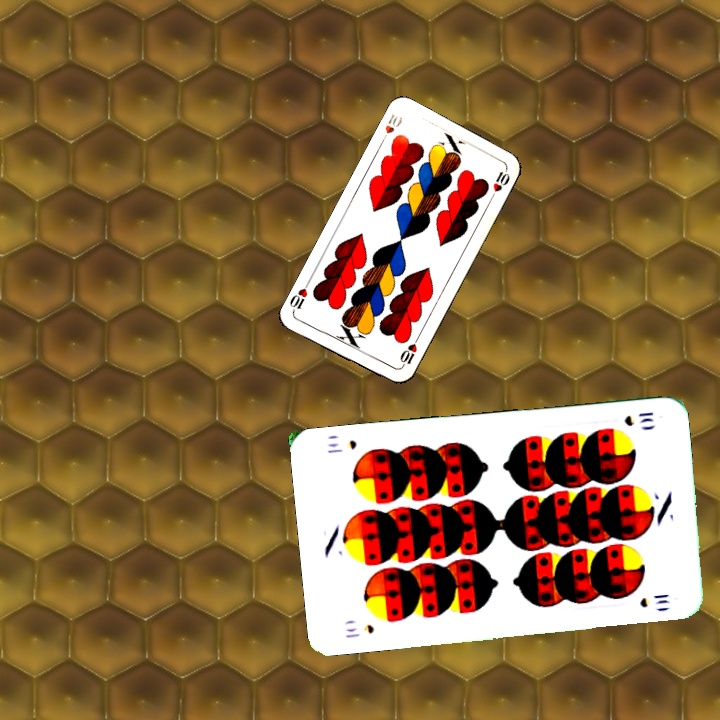H10: (376, 110, 405, 146), (396, 333, 422, 371)
S10: (620, 408, 656, 429), (341, 620, 376, 641)
